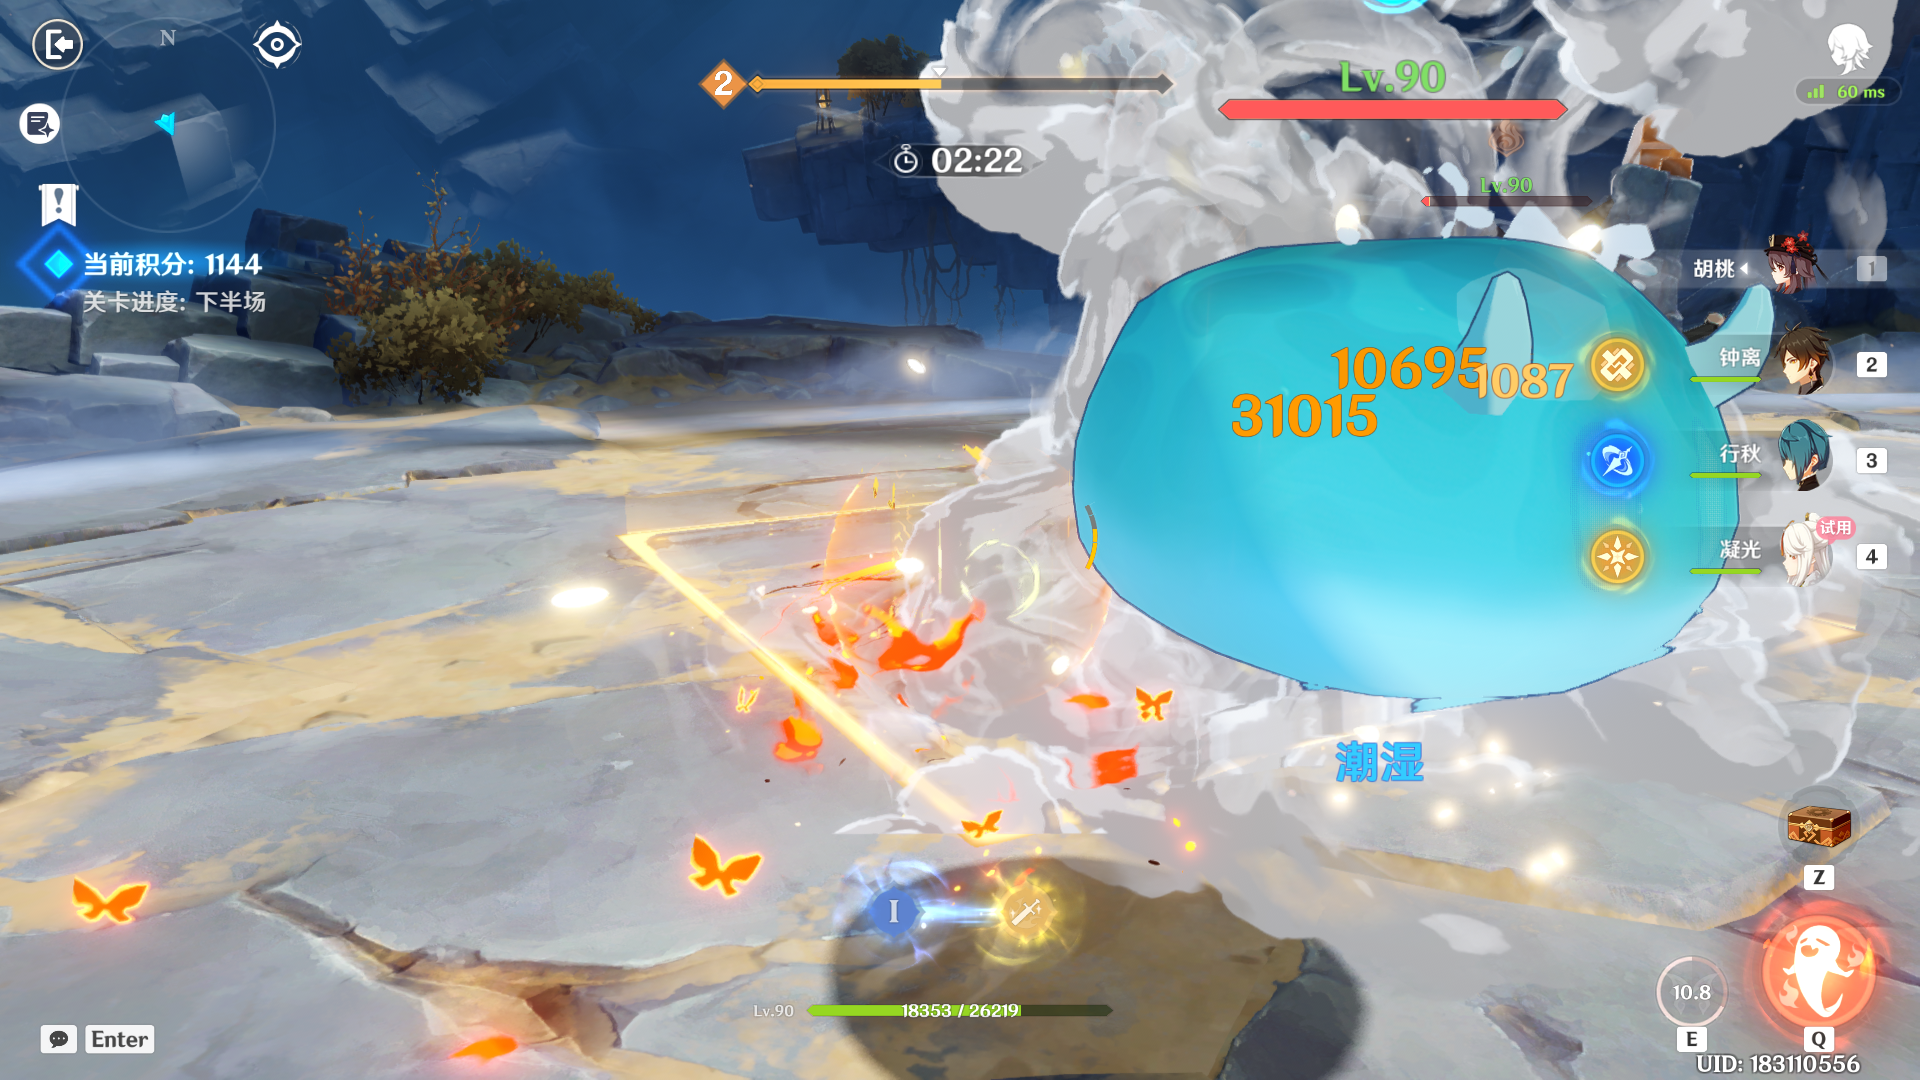slime: (1062, 174, 1775, 749)
